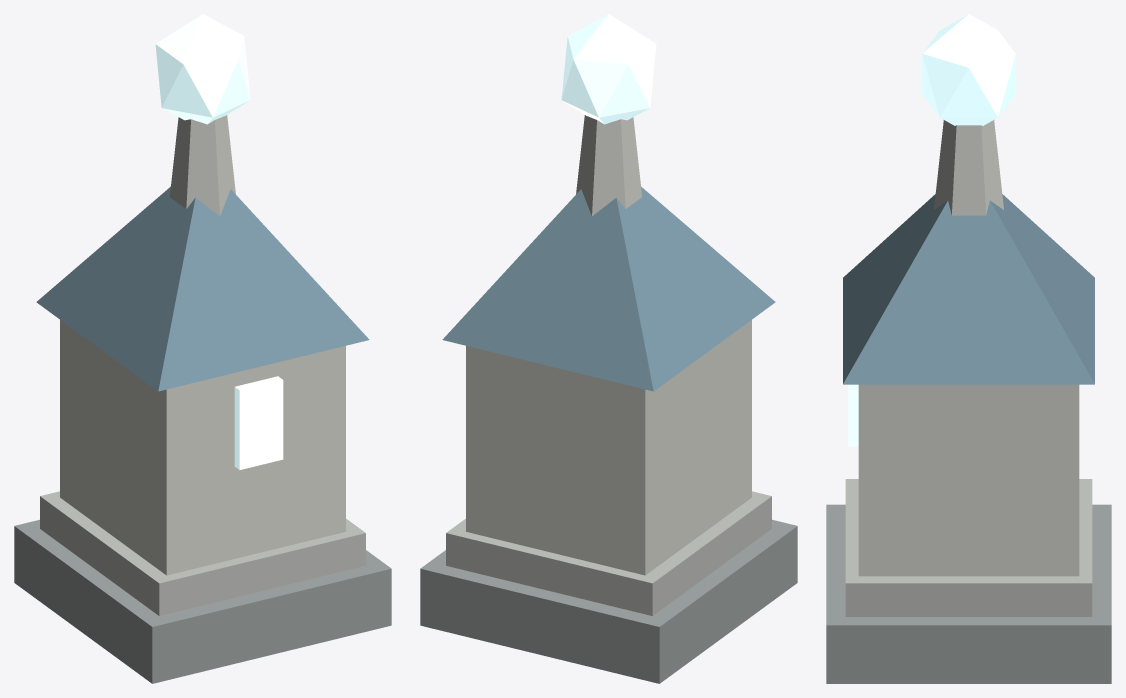
File: human_frost_t1.glb
3 renders of one model, left to right at view 1: azimuth 30°, elevation 25°; view 2: azimuth 150°, elevation 25°; view 3: azimuth 270°, elevation 25°, orthographic. The views are drawn at different scales.
Visible parts, largest first — view 1: human_frost_t1_MAT_light, human_frost_t1_MAT_roof, human_frost_t1_MAT_dark, human_frost_t1_MAT_stone, human_frost_t1_MAT_frost; view 2: human_frost_t1_MAT_light, human_frost_t1_MAT_roof, human_frost_t1_MAT_dark, human_frost_t1_MAT_stone, human_frost_t1_MAT_frost; view 3: human_frost_t1_MAT_light, human_frost_t1_MAT_roof, human_frost_t1_MAT_dark, human_frost_t1_MAT_stone, human_frost_t1_MAT_frost.
Part boxes in pixels (bbox=[...]): human_frost_t1_MAT_light: bbox=[60, 115, 345, 575]; human_frost_t1_MAT_roof: bbox=[36, 186, 369, 391]; human_frost_t1_MAT_dark: bbox=[14, 519, 391, 683]; human_frost_t1_MAT_stone: bbox=[40, 491, 365, 615]; human_frost_t1_MAT_frost: bbox=[155, 14, 283, 469]; human_frost_t1_MAT_light: bbox=[466, 115, 751, 575]; human_frost_t1_MAT_roof: bbox=[442, 186, 775, 391]; human_frost_t1_MAT_dark: bbox=[420, 519, 797, 683]; human_frost_t1_MAT_stone: bbox=[446, 491, 771, 615]; human_frost_t1_MAT_frost: bbox=[561, 14, 656, 124]; human_frost_t1_MAT_light: bbox=[858, 120, 1079, 576]; human_frost_t1_MAT_roof: bbox=[843, 194, 1094, 384]; human_frost_t1_MAT_dark: bbox=[826, 504, 1111, 683]; human_frost_t1_MAT_stone: bbox=[845, 479, 1092, 616]; human_frost_t1_MAT_frost: bbox=[848, 14, 1015, 446].
Bounding box in the file's own units: 0.88 × 2.07 × 0.88.
